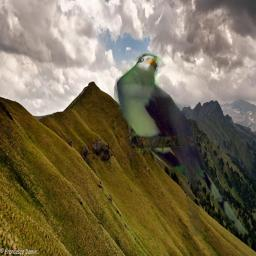Cuckoo: (114, 53, 255, 236)
